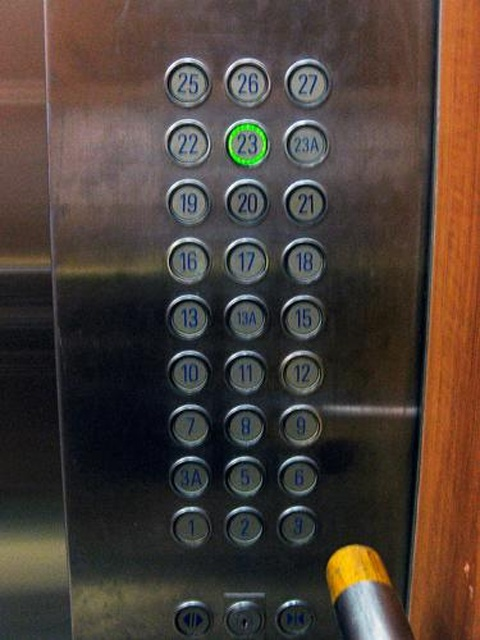1: (170, 506, 214, 547)
10: (168, 350, 211, 395)
11: (224, 349, 267, 394)
12: (279, 350, 323, 395)
13: (168, 293, 211, 338)
13A: (224, 294, 267, 339)
15: (281, 295, 326, 341)
16: (164, 235, 212, 285)
17: (220, 237, 270, 285)
18: (282, 235, 329, 287)
19: (166, 176, 213, 228)
2: (222, 506, 266, 547)
20: (224, 175, 271, 227)
21: (282, 177, 329, 229)
22: (165, 117, 212, 169)
23: (224, 117, 271, 169)
23A: (283, 117, 330, 169)
25: (164, 56, 213, 111)
26: (223, 56, 272, 108)
27: (284, 57, 333, 109)
3: (275, 505, 319, 546)
3A: (169, 455, 213, 498)
5: (222, 455, 266, 498)
6: (278, 455, 322, 496)
7: (169, 403, 212, 449)
8: (224, 405, 268, 446)
9: (279, 404, 323, 445)
close: (273, 599, 315, 638)
keyhole: (223, 601, 265, 640)
open: (173, 600, 215, 639)
